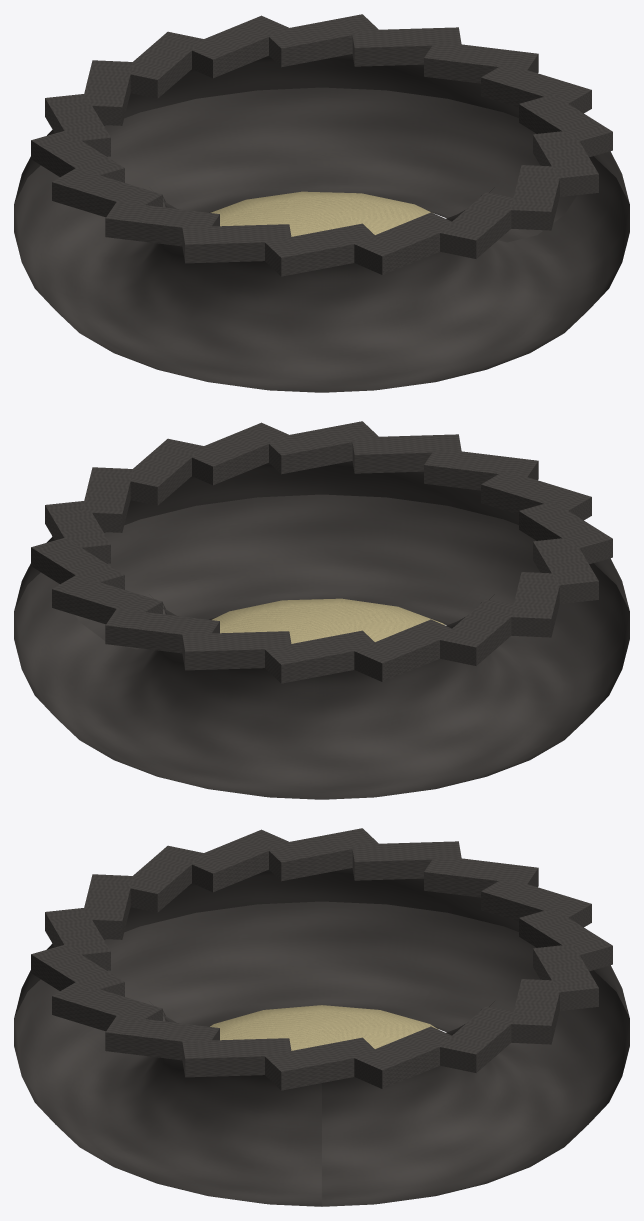
File: farm-and-working-animals-hd-tractor-tyre-abc542b8__29224.glb
3 views of the same model, one above another, from view 1: azimuth 30°, elevation 25°; view 2: azimuth 150°, elevation 25°; view 3: azimuth 270°, elevation 25° (orthographic).
Parts seen in each view (by area): view 1: tractor-tyre; view 2: tractor-tyre; view 3: tractor-tyre.
Boxes of the visible parts, x1,y1,x2,y2 form: tractor-tyre: (14, 14, 629, 392); tractor-tyre: (14, 421, 629, 799); tractor-tyre: (14, 828, 629, 1206).
Size of the model in its own units: 1.5 by 0.43 by 1.49.
2 materials, 2 textured.
